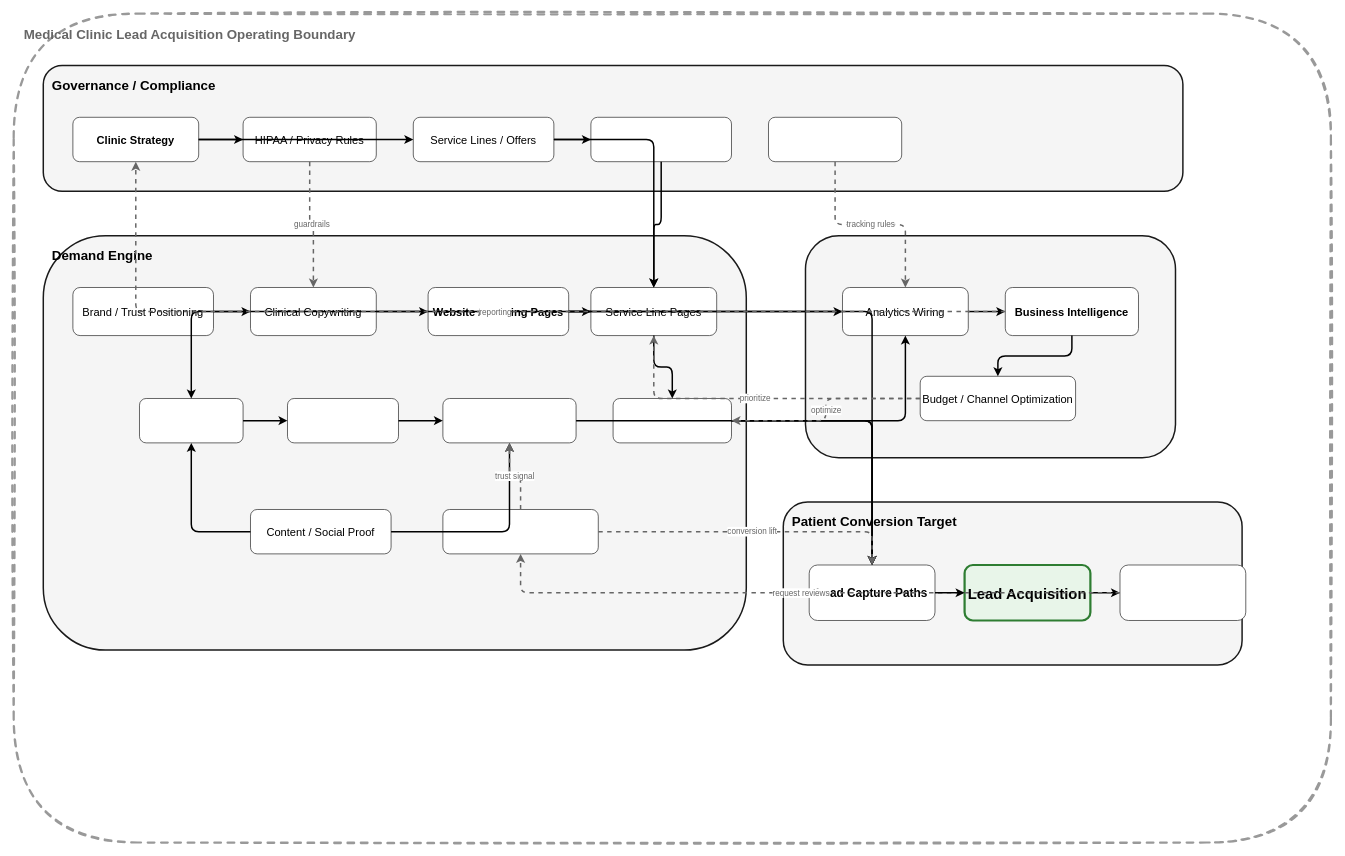
The diagram is 1345 pixels wide and 856 high, and some of its shapes have lost their labels. The box of each missing label's shape, as (x1, y1, x2, y2) in pixels:
Google Business Profile: (442, 398, 576, 443)
Insurance / Payer Info: (590, 117, 731, 162)
Local SEO: (287, 398, 398, 443)
Measurement / Optimization: (804, 235, 1176, 458)
Measurement Policy: (768, 117, 902, 162)
Paid Search / Ads: (612, 398, 731, 443)
Patient Intake / Scheduling: (1119, 564, 1246, 620)
Patient Reviews / Reputation: (442, 509, 598, 554)
SEO: (139, 398, 243, 443)
